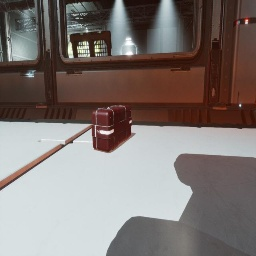FirstAidBox ,: (92, 105, 132, 152)
